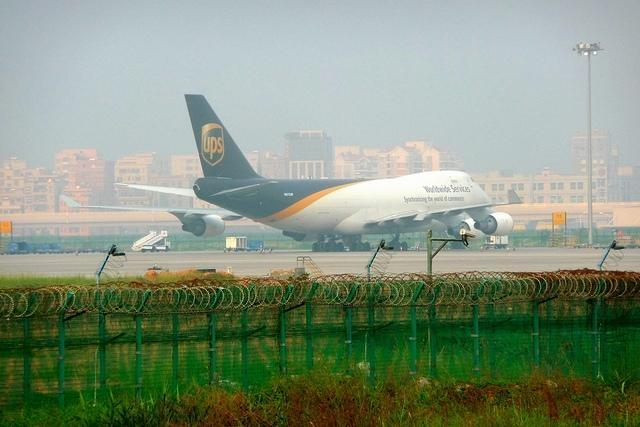truck: (223, 234, 262, 252), (140, 244, 169, 252)
